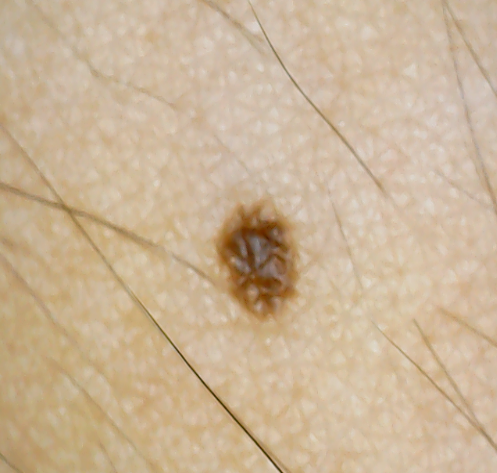Normal: (217, 203, 299, 319)
